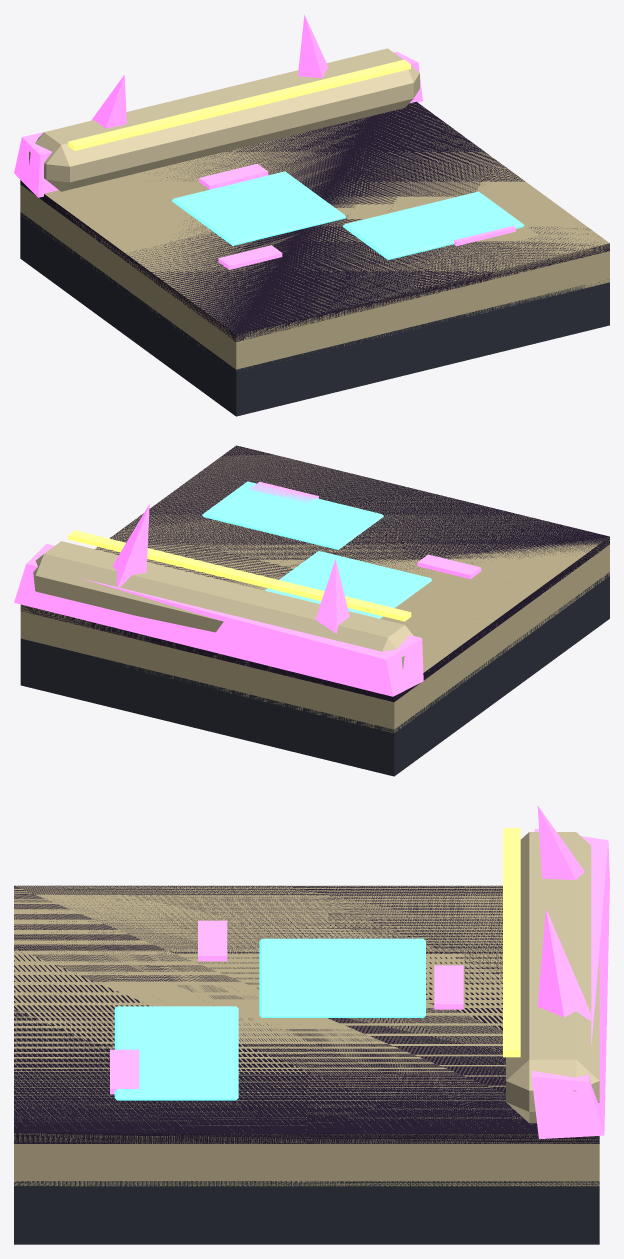
The model's file is pool.glb.
3 renders of one model, top to bottom at view 1: azimuth 30°, elevation 25°; view 2: azimuth 150°, elevation 25°; view 3: azimuth 270°, elevation 25°, orthographic. The views are drawn at different scales.
Parts seen in each view (by area): view 1: pool_surface_corrupted, pool_surface_restored, pool_rim_restored, pool_rim_corrupted; view 2: pool_surface_restored, pool_surface_corrupted, pool_rim_restored, pool_rim_corrupted; view 3: pool_surface_restored, pool_surface_corrupted, pool_rim_restored, pool_rim_corrupted.
Part boxes in pixels (box(x1,y1,x2,y2)): pool_surface_corrupted: box(20, 101, 609, 416); pool_surface_restored: box(20, 103, 609, 370); pool_rim_restored: box(29, 48, 419, 191); pool_rim_corrupted: box(14, 14, 422, 197); pool_surface_restored: box(20, 446, 609, 732); pool_surface_corrupted: box(20, 445, 609, 776); pool_rim_restored: box(33, 530, 414, 669); pool_rim_corrupted: box(14, 504, 423, 696); pool_surface_restored: box(14, 885, 599, 1186); pool_surface_corrupted: box(14, 885, 599, 1244); pool_rim_restored: box(503, 828, 599, 1123); pool_rim_corrupted: box(531, 806, 609, 1138).
Bounding box in the file's own units: 1.03 × 0.4965 × 1.02.
